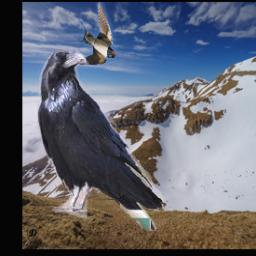Crow: (37, 47, 164, 231)
Swallow: (64, 3, 117, 66)
